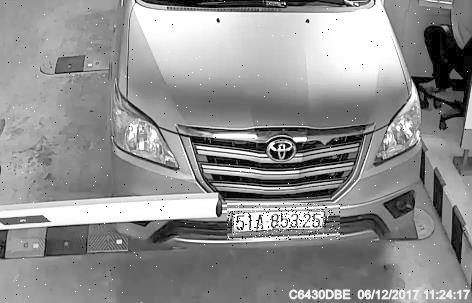License-plate: (228, 205, 341, 242)
